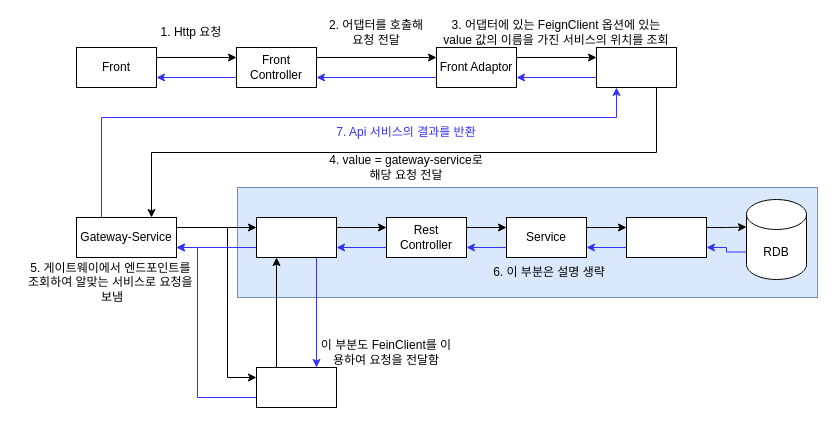
This 835x425 diagram has some shape labels left out. The centre of each missing label's shape, as x and y in pixels:
"Api-Service" goes at point 296,237.
"Auth-Service" goes at point 296,387.
"Discovery (Eureka)" goes at point 636,67.
"Repository" goes at point 666,237.
